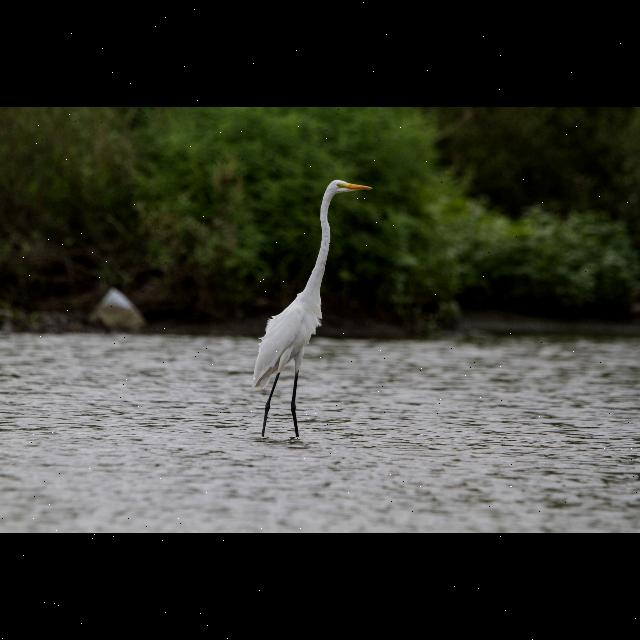egret: (238, 177, 378, 446)
